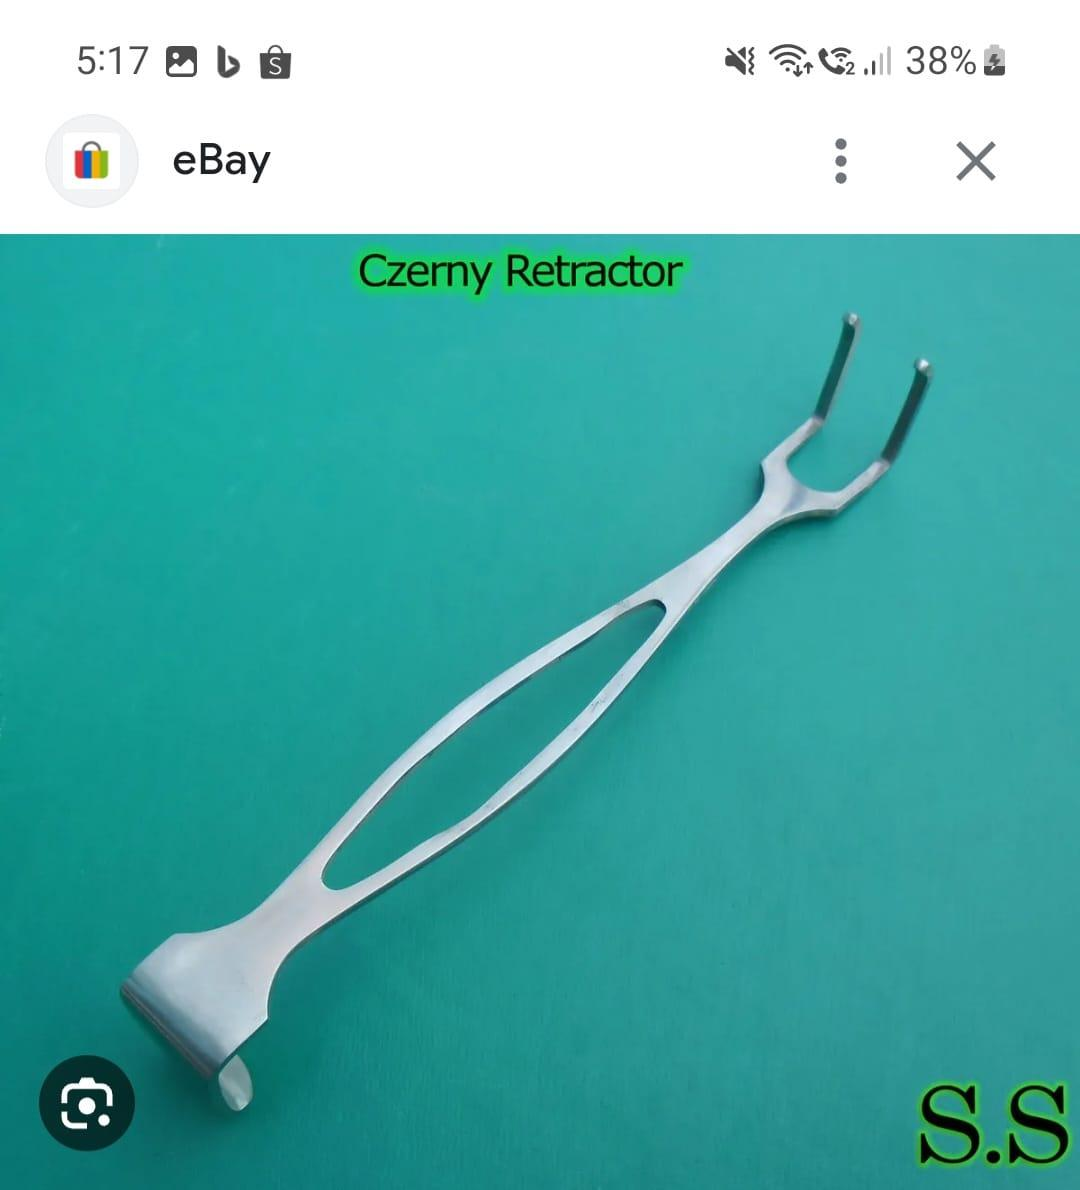Czerney Retractor: (115, 305, 938, 1124)
